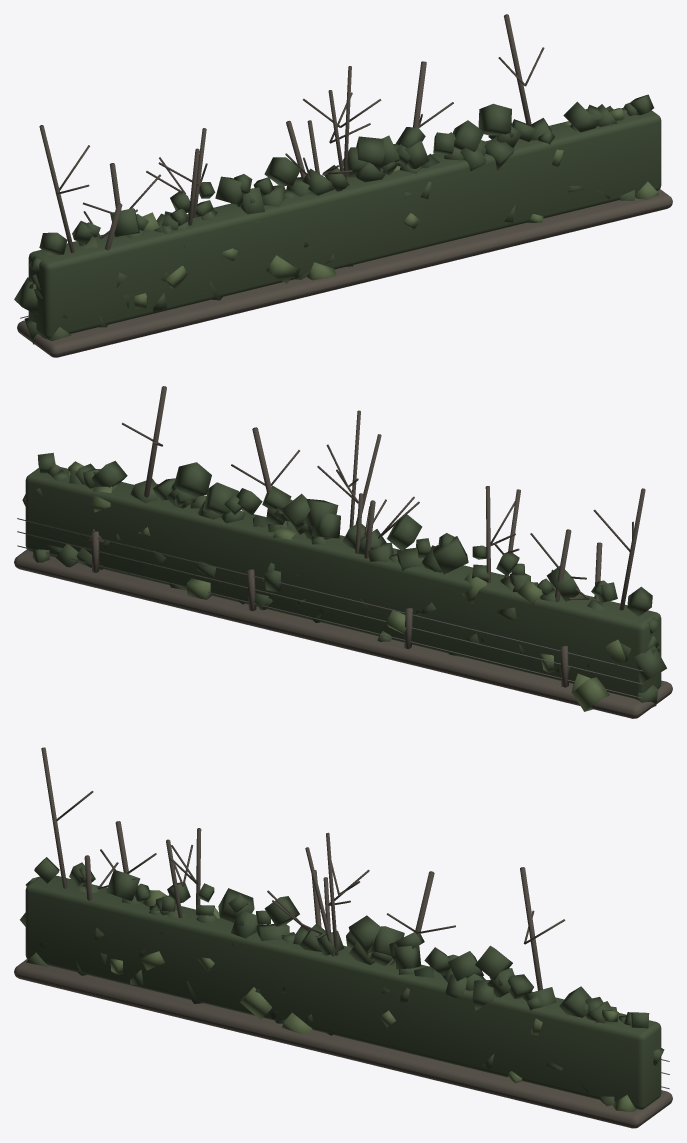
The model's file is hedgerow_v1.glb.
3 renders of one model, top to bottom at view 1: azimuth 30°, elevation 25°; view 2: azimuth 150°, elevation 25°; view 3: azimuth 330°, elevation 25°, orthographic.
Visible parts, largest first — view 1: Hedgerow; view 2: Hedgerow; view 3: Hedgerow.
Boxes of the visible parts, box(x1,y1,x2,y2) form: Hedgerow: box(14, 14, 672, 357); Hedgerow: box(14, 386, 672, 718); Hedgerow: box(14, 747, 672, 1128).
Size of the model in its own units: 12.27 by 4.08 by 1.36.
